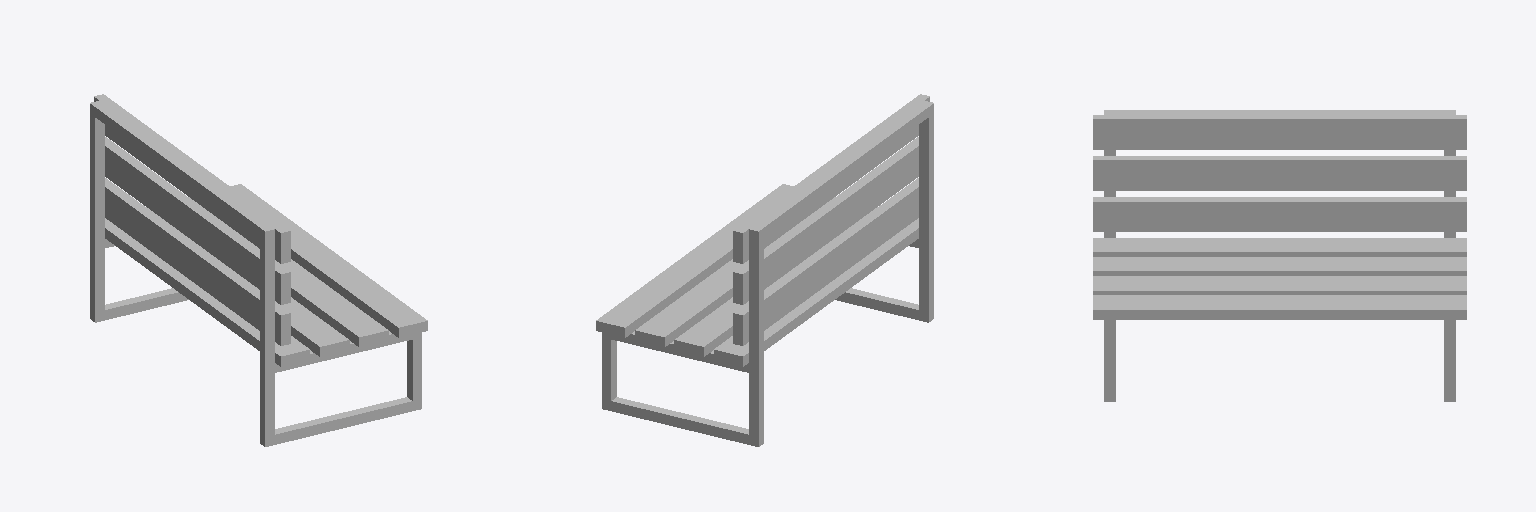
File: chair.obj
3 views of the same model, side by side, from view 1: azimuth 30°, elevation 25°; view 2: azimuth 150°, elevation 25°; view 3: azimuth 270°, elevation 25° (orthographic).
Visible parts, largest first — view 1: cube; view 2: cube; view 3: cube.
Part boxes in pixels (bbox=[...]): cube: bbox=[90, 94, 427, 446]; cube: bbox=[596, 94, 933, 446]; cube: bbox=[1093, 110, 1466, 401].
Size of the model in its own units: 1 by 1.31 by 2.06.